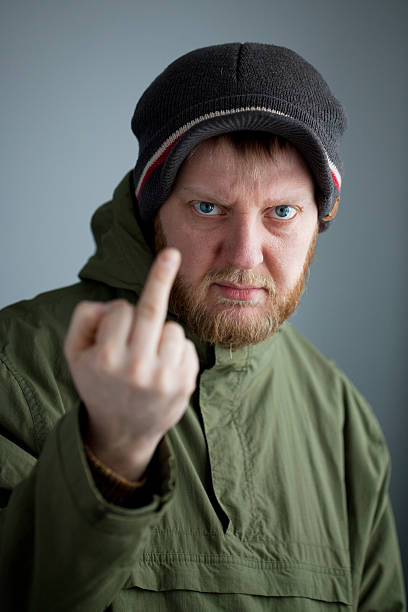insulting_gesture: (62, 247, 198, 442)
